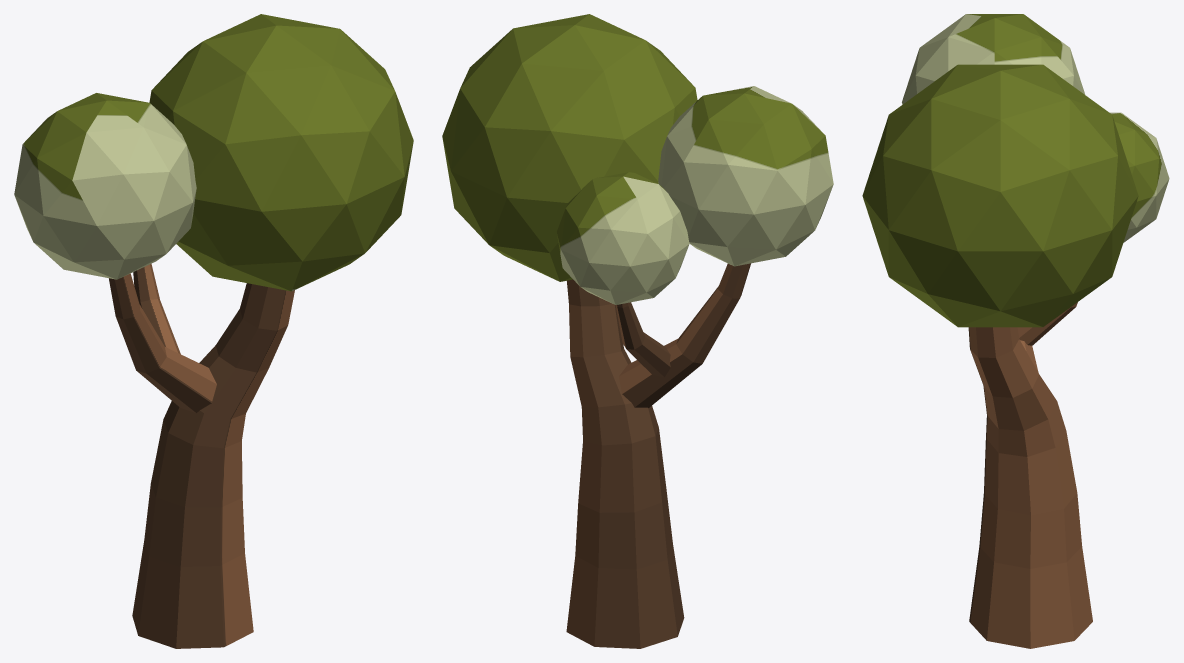
The model's file is tree.glb.
The picture shows the model from 3 angles, left to right: view 1: azimuth 30°, elevation 25°; view 2: azimuth 150°, elevation 25°; view 3: azimuth 270°, elevation 25°; orthographic projection. The views are drawn at different scales.
Visible parts, largest first — view 1: Cylinder; view 2: Cylinder; view 3: Cylinder.
Part boxes in pixels (x1=…): Cylinder: x1=14, y1=14, x2=413, y2=648; Cylinder: x1=442, y1=14, x2=833, y2=648; Cylinder: x1=862, y1=14, x2=1169, y2=648.
Bounding box in the file's own units: 8.58 × 13.3 × 6.33.
Materials: 1 (1 with a texture image).
